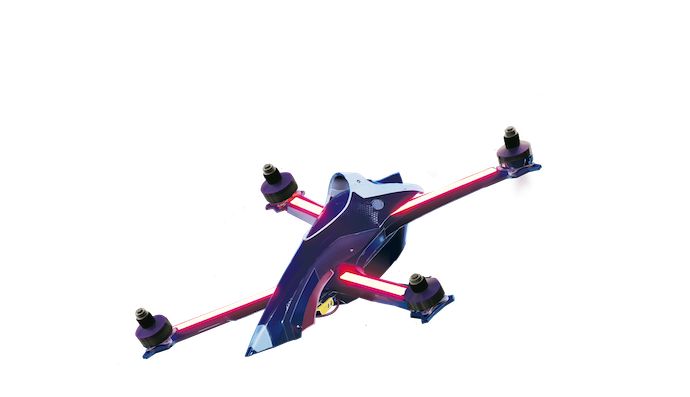drone: (129, 121, 545, 364)
